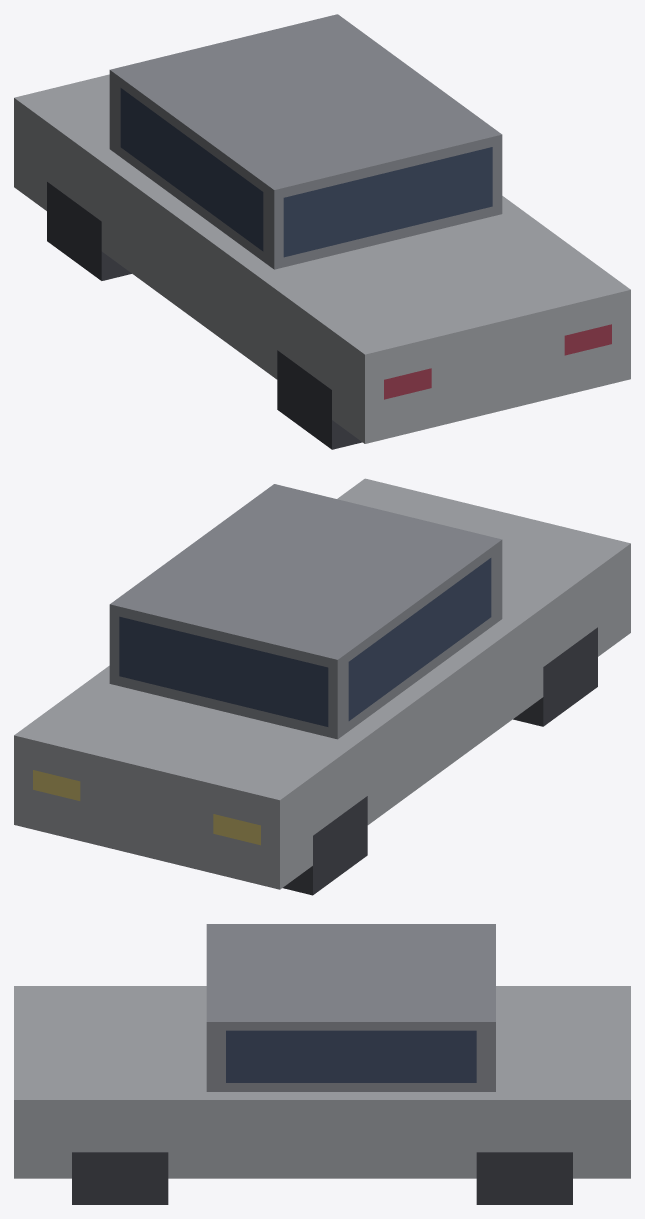
Rendered from voiture.glb.
The picture shows the model from 3 angles, top to bottom: view 1: azimuth 30°, elevation 25°; view 2: azimuth 150°, elevation 25°; view 3: azimuth 270°, elevation 25°; orthographic projection. The views are drawn at different scales.
Visible parts, largest first — view 1: main; view 2: main; view 3: main.
Part boxes in pixels (left/top/right/bottom): main: left=14, top=14, right=630, bottom=449; main: left=14, top=478, right=630, bottom=895; main: left=14, top=924, right=630, bottom=1204.
Size of the model in its own units: 1.75 by 1.25 by 4.
